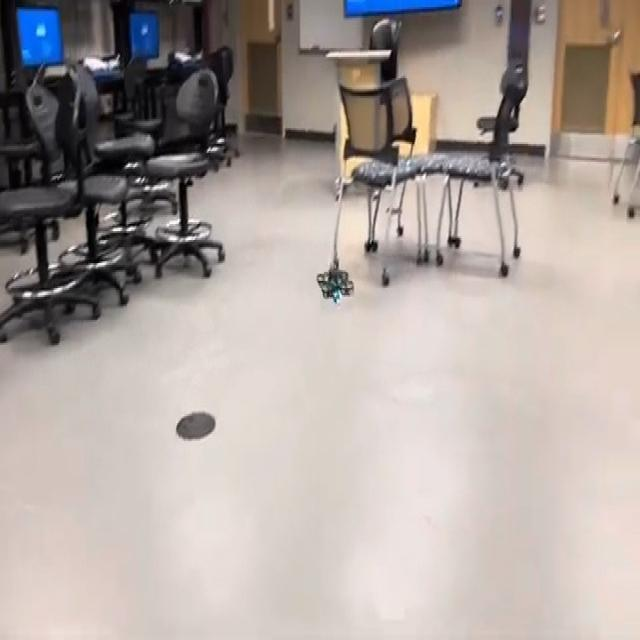drone: (306, 243, 358, 315)
